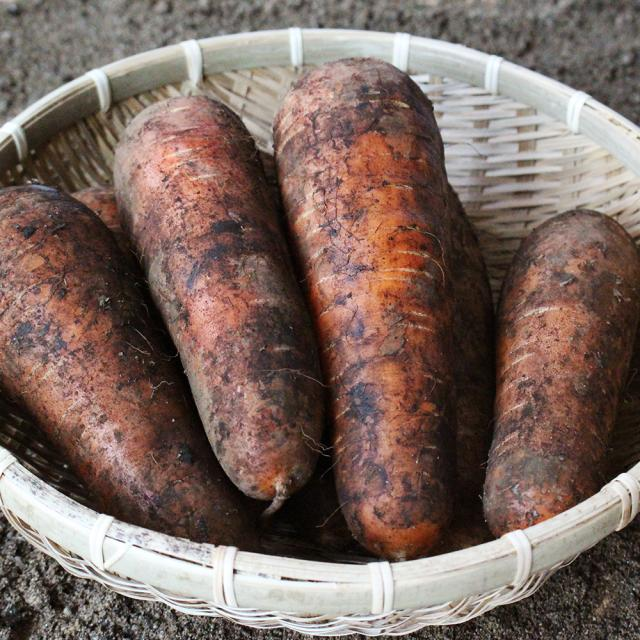carrot: (277, 54, 459, 553), (117, 94, 326, 515), (1, 177, 242, 537), (475, 213, 635, 531)
